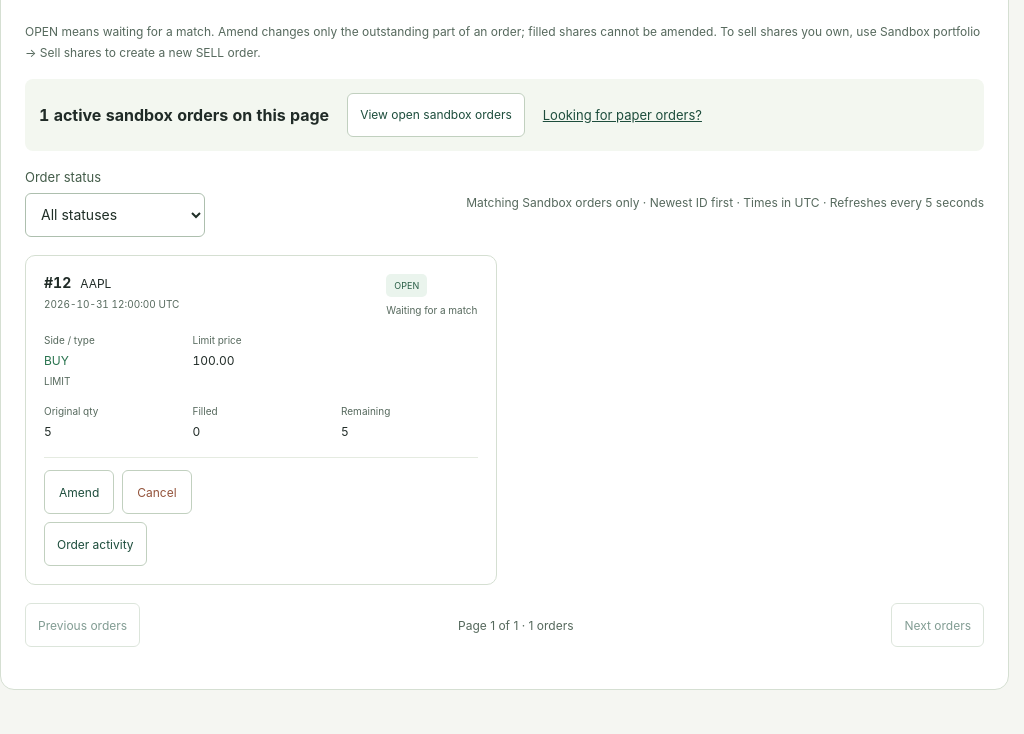
cancels only after the backend confirms and refreshes history
(page scrolled)
Click the button with aria-label "Cancel #12".
click(157, 492)  # box [122, 470, 192, 514]
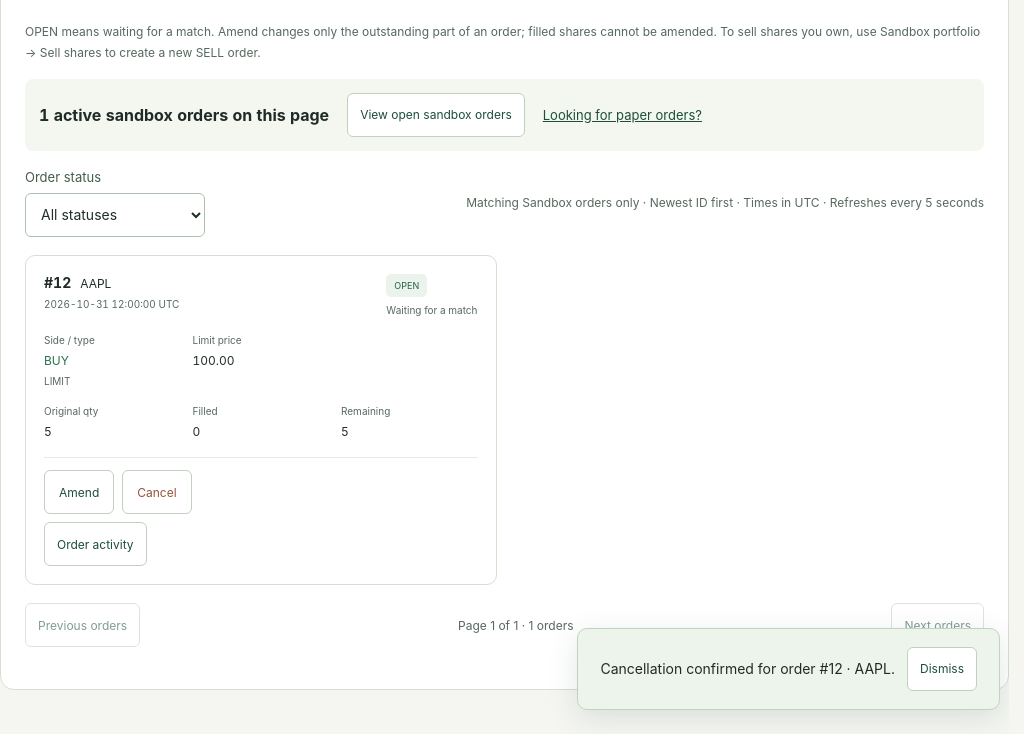
Expected: the text "#12" is shown, [44, 274, 71, 291]
Now the text "Cancellation confirmed for order #12 · AAPL." is shown, box [600, 656, 895, 682]
